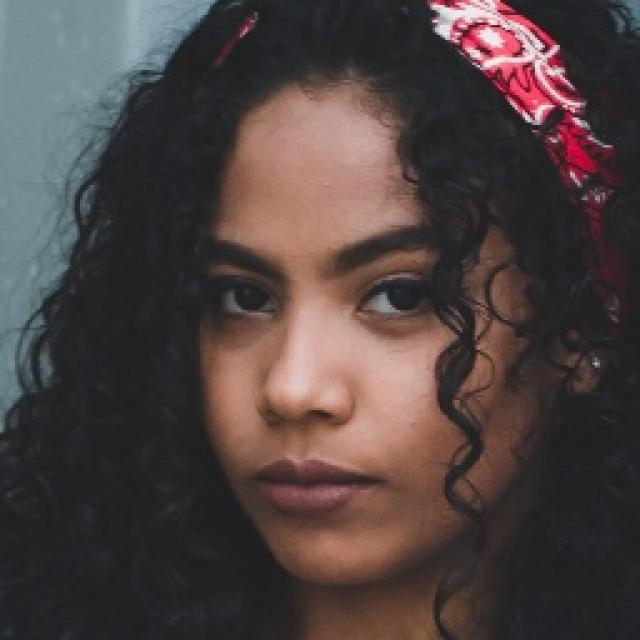earlobe: (552, 351, 596, 399)
eye: (359, 277, 448, 321), (216, 277, 274, 319)
nose: (259, 409, 348, 447)
